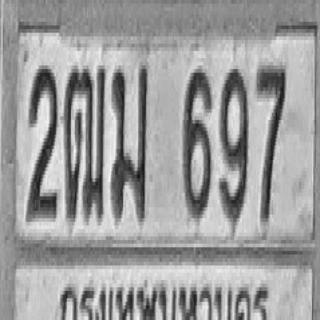A18: (64, 64, 105, 220)
A33: (111, 64, 147, 220)
N02: (27, 62, 58, 218)
N06: (184, 65, 212, 218)
N07: (256, 62, 286, 222)
N09: (220, 66, 248, 222)
